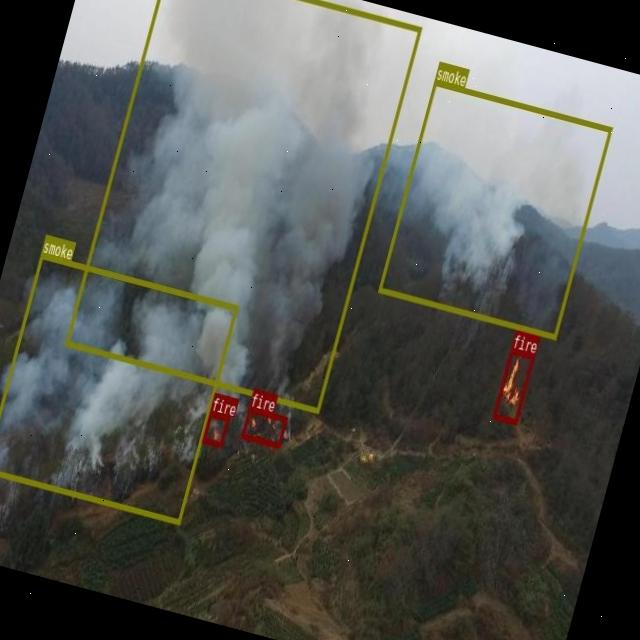fire: (492, 347, 534, 424), (240, 406, 287, 446), (202, 410, 229, 446)
smoke: (63, 0, 421, 412), (0, 252, 238, 523), (378, 79, 612, 338)
